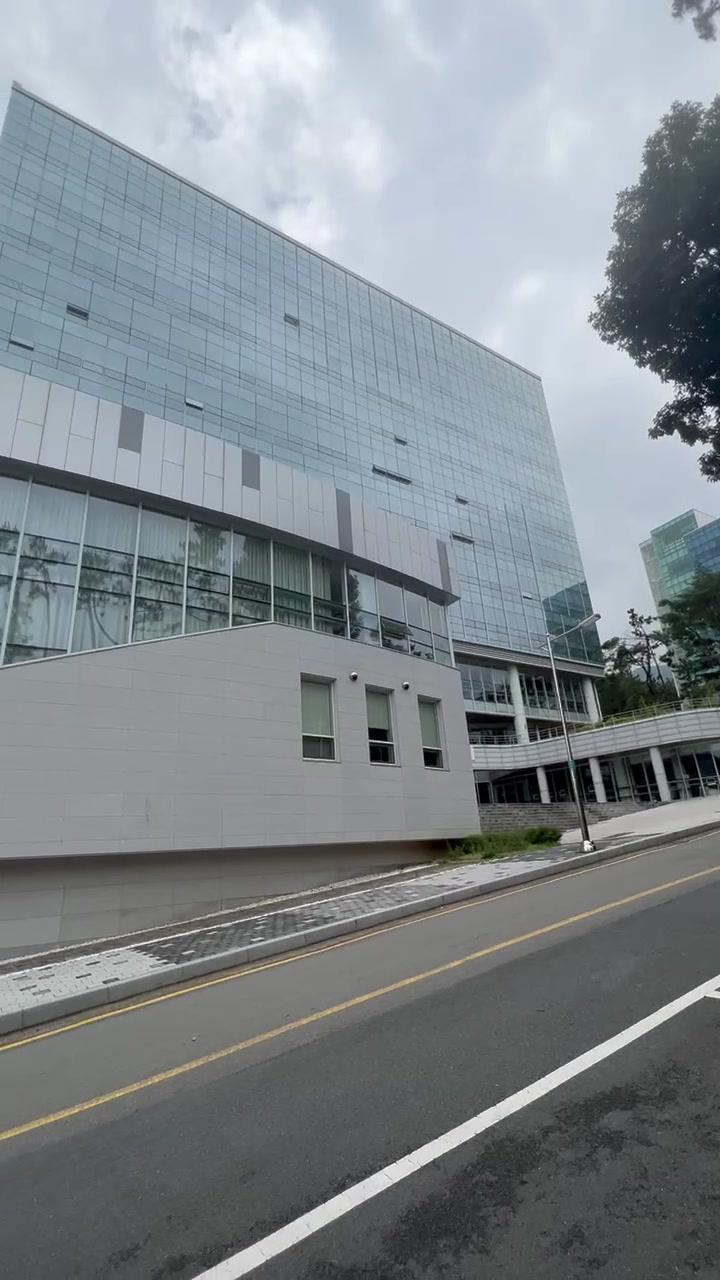building: (2, 150, 558, 810)
